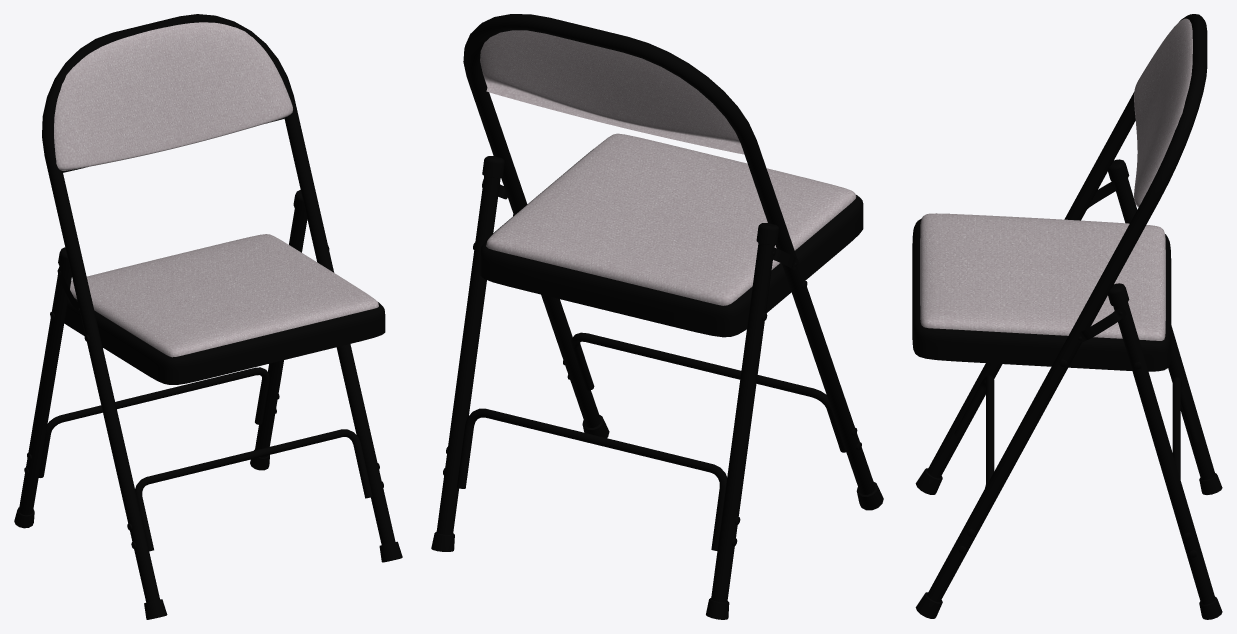
The model's file is chair.fbx.
3 renders of one model, left to right at view 1: azimuth 30°, elevation 25°; view 2: azimuth 150°, elevation 25°; view 3: azimuth 270°, elevation 25°, orthographic. The views are drawn at different scales.
Visible parts, largest first — view 1: chair; view 2: chair; view 3: chair.
Part boxes in pixels (x1=…): chair: x1=14, y1=14, x2=402, y2=619; chair: x1=431, y1=14, x2=883, y2=619; chair: x1=912, y1=14, x2=1222, y2=619.
Bounding box in the file's own units: 45.16 × 44.26 × 80.7.
Materials: 1 (1 with a texture image).
